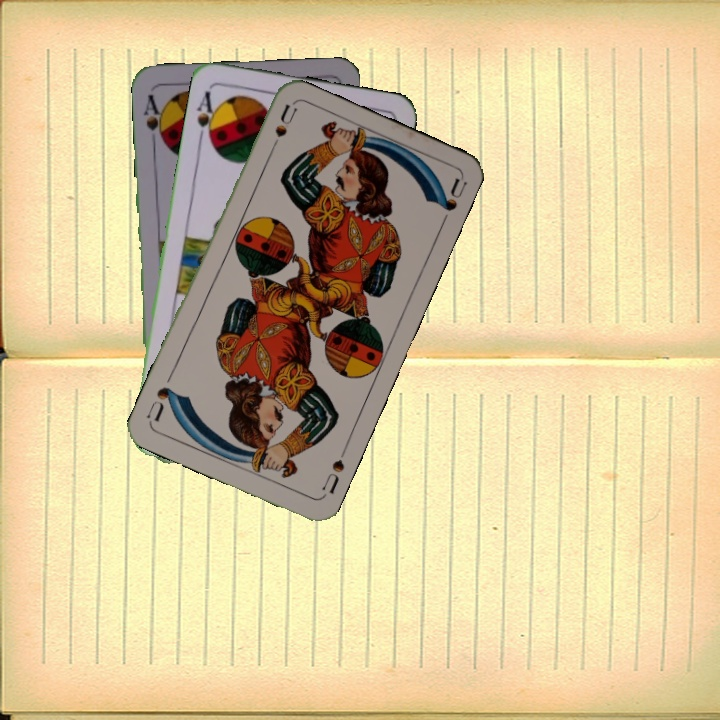SA: (193, 87, 222, 145), (139, 90, 167, 148)
SU: (264, 101, 300, 158), (318, 455, 347, 497)
